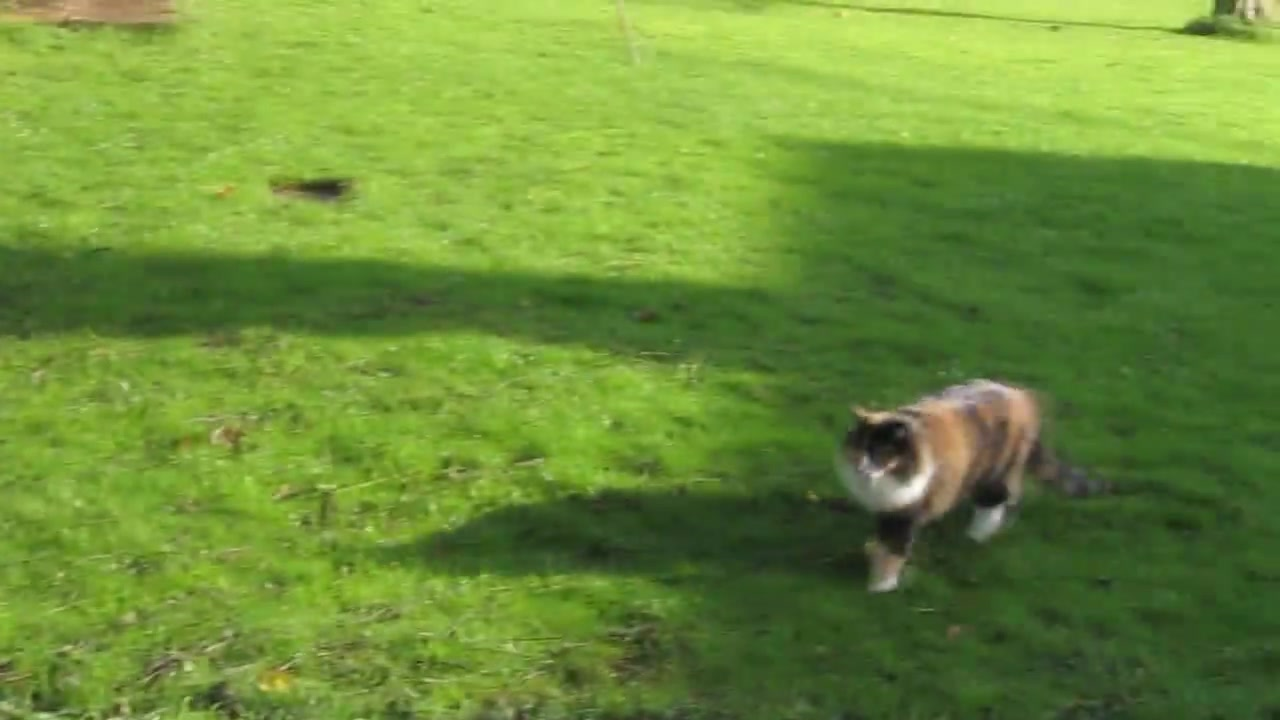cat: (835, 379, 1176, 597)
